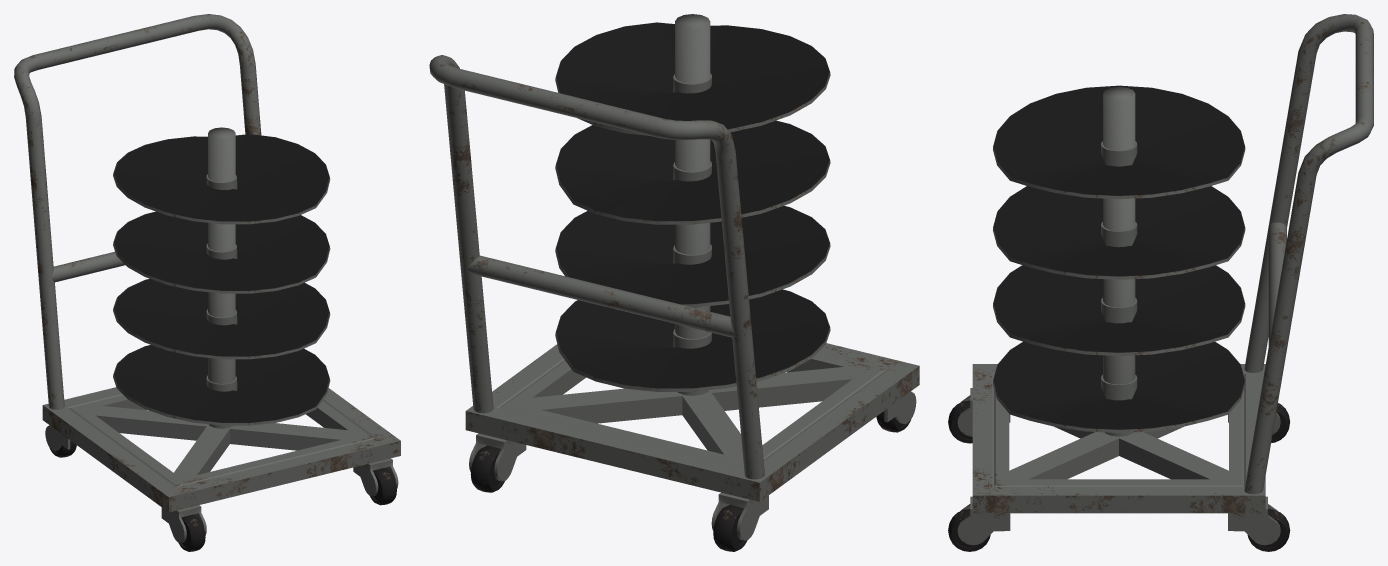
The model's file is trolley.fbx.
3 views of the same model, side by side, from view 1: azimuth 30°, elevation 25°; view 2: azimuth 150°, elevation 25°; view 3: azimuth 270°, elevation 25° (orthographic). The views are drawn at different scales.
Parts seen in each view (by area): view 1: base, Cylinder.059, Cylinder.058, Cylinder.002, Cylinder.057, holder, pole, wheels, wheels.007, wheels.004, wheels.003; view 2: base, holder, Cylinder.059, Cylinder.058, Cylinder.002, Cylinder.057, pole, wheels.006, wheels.005, wheels.002, wheels.001, wheels; view 3: base, Cylinder.059, Cylinder.058, Cylinder.002, Cylinder.057, holder, pole, wheels.007, wheels.005, wheels.003, wheels.001, wheels.004.
Part boxes in pixels (left/top/right/bottom): base: left=42, top=387, right=400, bottom=512; Cylinder.059: left=113, top=134, right=330, bottom=224; Cylinder.058: left=113, top=211, right=330, bottom=293; Cylinder.002: left=113, top=345, right=330, bottom=425; Cylinder.057: left=113, top=278, right=330, bottom=359; holder: left=14, top=14, right=261, bottom=409; pole: left=208, top=127, right=235, bottom=428; wheels: left=161, top=505, right=206, bottom=542; wheels.007: left=353, top=458, right=398, bottom=496; wheels.004: left=178, top=515, right=205, bottom=551; wheels.003: left=370, top=468, right=396, bottom=505; base: left=465, top=343, right=919, bottom=501; holder: left=429, top=55, right=764, bottom=479; Cylinder.059: left=555, top=22, right=830, bottom=135; Cylinder.058: left=555, top=120, right=830, bottom=224; Cylinder.002: left=555, top=289, right=830, bottom=391; Cylinder.057: left=555, top=205, right=830, bottom=307; pole: left=675, top=14, right=710, bottom=395; wheels.006: left=711, top=492, right=768, bottom=540; wheels.005: left=469, top=433, right=526, bottom=481; wheels.002: left=713, top=505, right=747, bottom=551; wheels.001: left=470, top=445, right=504, bottom=492; wheels: left=876, top=391, right=916, bottom=423; base: left=972, top=364, right=1265, bottom=513; Cylinder.059: left=993, top=85, right=1245, bottom=199; Cylinder.058: left=993, top=186, right=1245, bottom=279; Cylinder.002: left=993, top=341, right=1245, bottom=432; Cylinder.057: left=993, top=265, right=1245, bottom=355; holder: left=1244, top=14, right=1373, bottom=494; pole: left=1103, top=87, right=1135, bottom=436; wheels.007: left=957, top=496, right=1010, bottom=545; wheels.005: left=1228, top=496, right=1280, bottom=545; wheels.003: left=948, top=509, right=990, bottom=551; wheels.001: left=1247, top=509, right=1290, bottom=551; wheels.004: left=948, top=400, right=972, bottom=443.
Size of the model in its own units: 0.9053 by 1.37 by 1.24.
1 material, 1 textured.
